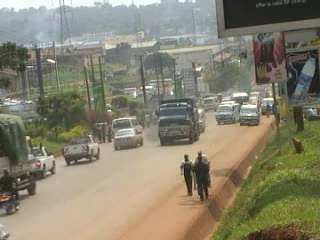Car: (111, 124, 147, 150)
Motorcycle: (0, 165, 27, 217)
